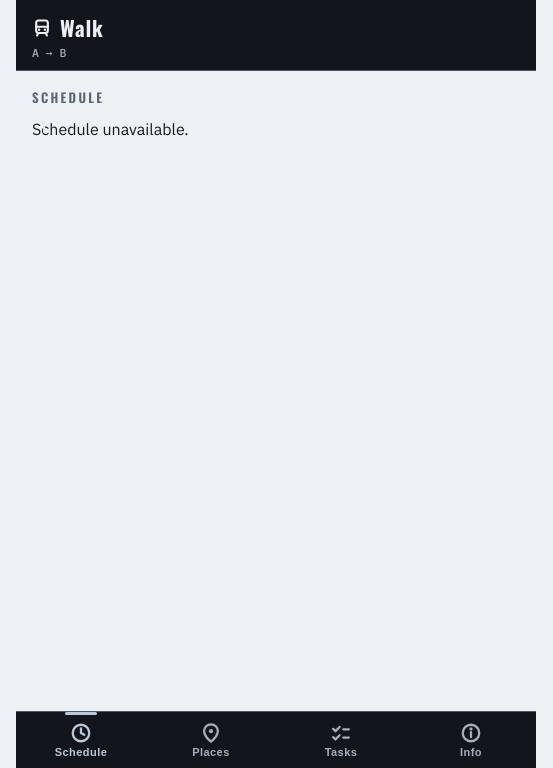
Test: shows Info for introduction alone
Expected: the element with test id "view-schedule" is shown, [32,119,189,139]
Click the button "Info" at (471, 740), box [406,712,536,767]
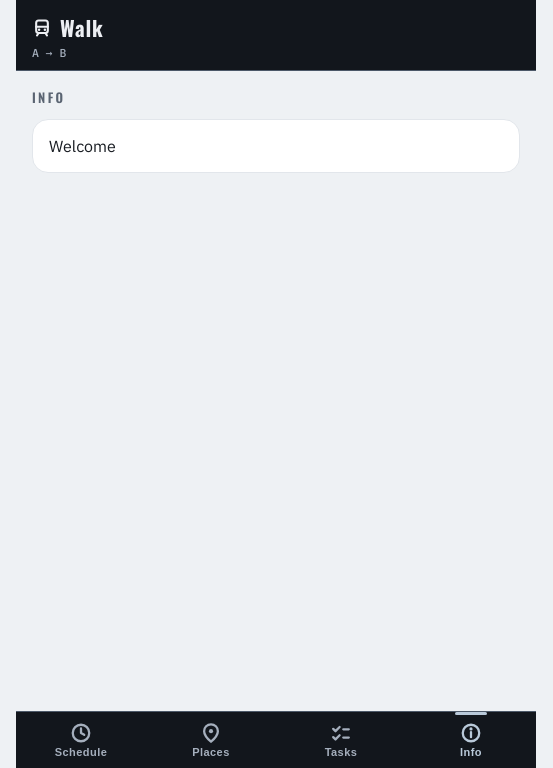
Expected: the element with test id "view-info" reads "Welcome", [49,136,116,156]
